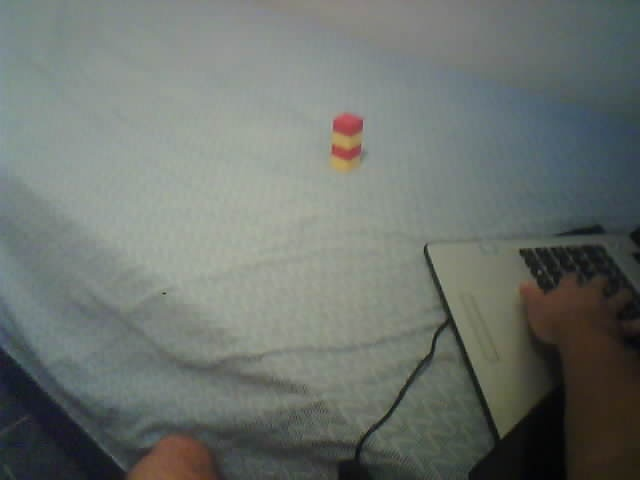lego: (330, 112, 364, 173)
